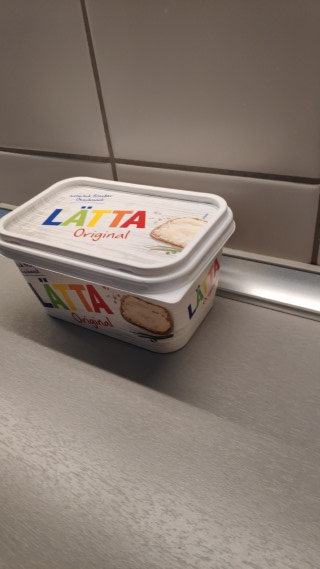laetta: (1, 175, 237, 356)
